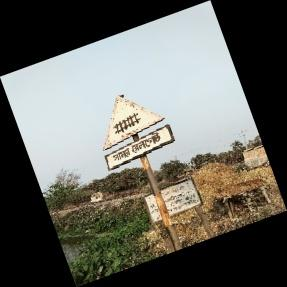Rail-crossing: (102, 95, 173, 172)
